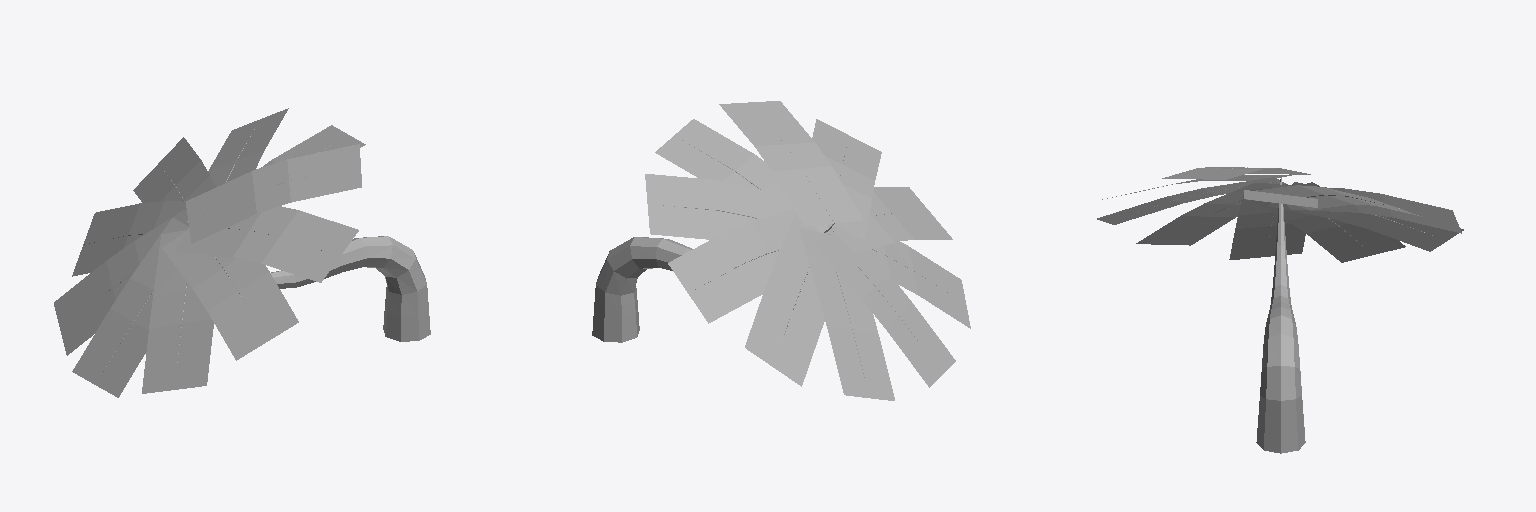
File: Palm.obj
The picture shows the model from 3 angles: view 1: azimuth 30°, elevation 25°; view 2: azimuth 150°, elevation 25°; view 3: azimuth 270°, elevation 25°; orthographic projection.
Parts seen in each view (by area): view 1: plant; view 2: plant; view 3: plant.
Part boxes in pixels (bbox=[...]): plant: bbox=[54, 108, 430, 397]; plant: bbox=[592, 101, 970, 400]; plant: bbox=[1097, 167, 1463, 453].
Bounding box in the file's own units: 16.2 × 10.15 × 14.98.